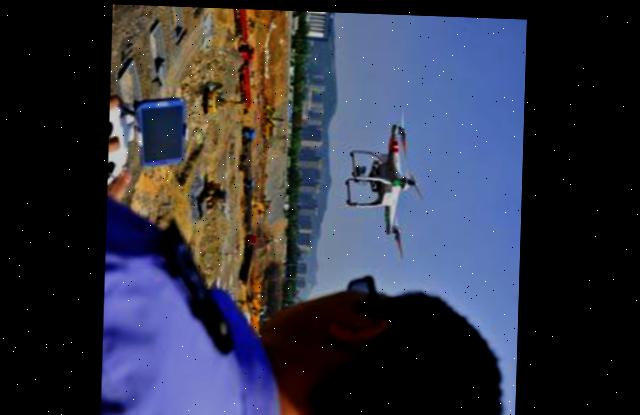drone: (345, 117, 429, 239)
